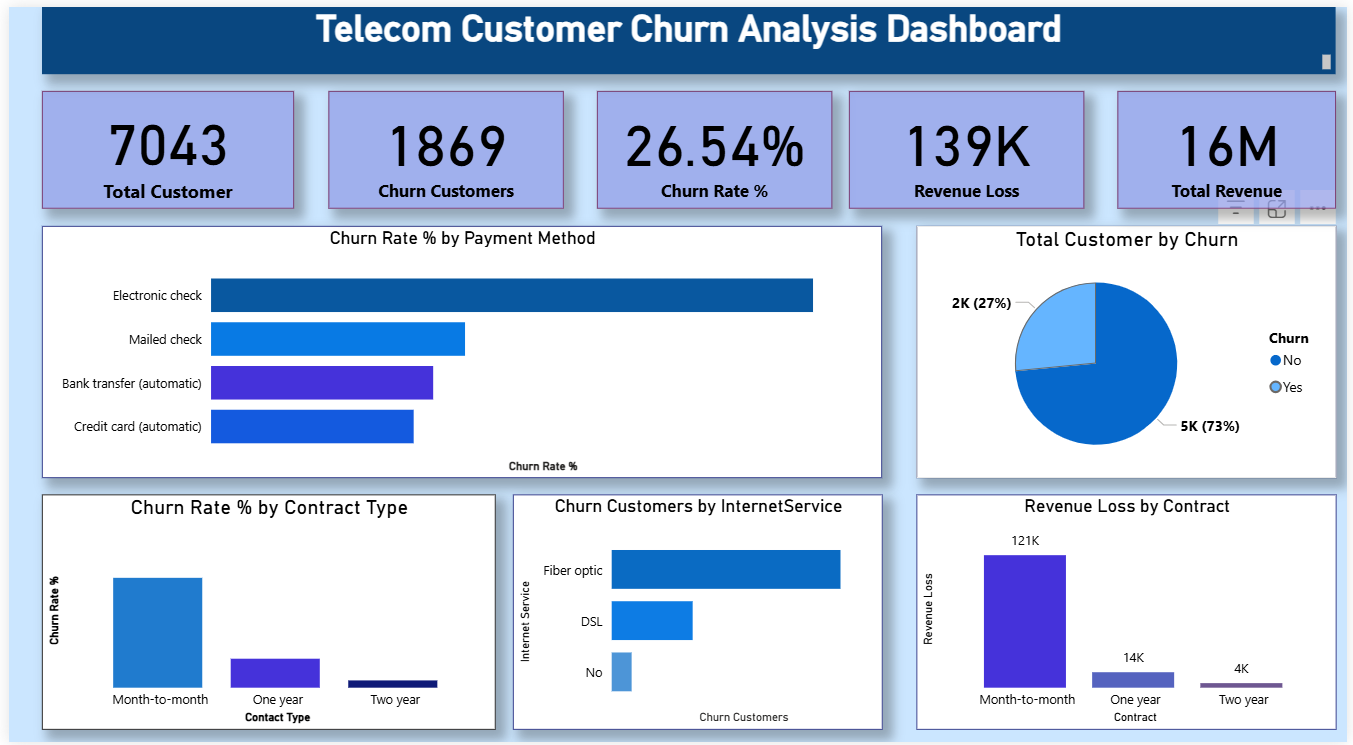

This screenshot's page, from the dashboard's own definition file:
{"tool":"powerbi","page":{"name":"Business Summary","canvas":[1274,700],"ordinal":0},"visuals":[{"type":"card","fields":{"Values":["Churn_data3.Total Customer"]},"box":[32,80,240,112],"z":0},{"type":"card","fields":{"Values":["Churn_data3.Churn Rate %"]},"box":[560,80,224,112],"z":1000},{"type":"card","fields":{"Values":["Churn_data3.Revenue Loss"]},"box":[800,80,224,112],"z":2000},{"type":"clusteredBarChart","title":"Churn Rate % by Payment  Method","fields":{"Category":["Churn_data3.PaymentMethod"],"Y":["Churn_data3.Churn Rate %"]},"box":[32,208,800,240],"z":3000},{"type":"columnChart","title":"Churn Rate % by  Contract Type","fields":{"Y":["Churn_data3.Churn Rate %"],"Category":["Churn_data3.Contract"]},"box":[32,464,432,224],"z":4000},{"type":"card","fields":{"Values":["Churn_data3.Churn Customer"]},"box":[304,80,224,112],"z":5000},{"type":"pieChart","fields":{"Y":["Churn_data3.Total Customer"],"Category":["Churn_data3.Churn"]},"box":[864,208,400,240],"z":6000},{"type":"barChart","fields":{"Category":["internet_data1.InternetService"],"Y":["Churn_data3.Churn Customers"]},"box":[480,464,352,224],"z":7000},{"type":"columnChart","fields":{"Category":["Churn_data3.Contract"],"Y":["Churn_data3.Revenue Loss"]},"box":[864,464,400,224],"z":8000},{"type":"card","fields":{"Values":["Churn_data3.Total Revenue"]},"box":[1056,80,208,112],"z":9000},{"type":"textbox","title":"Telecom Customer Churn Analysis Dashboard","box":[32,0,1232,64],"z":10000}]}

Visuals, with their boxes in screenshot pixels (x1, y1, x2, y2), scaled from the page's 1274x700 canvas onto the 1353x745 screenshot:
card - Churn_data3.Total Customer: detection(34, 85, 289, 204)
card - Churn_data3.Churn Rate %: detection(595, 85, 833, 204)
card - Churn_data3.Revenue Loss: detection(850, 85, 1087, 204)
"Churn Rate % by Payment  Method" clusteredBarChart: detection(34, 221, 884, 477)
"Churn Rate % by  Contract Type" columnChart: detection(34, 494, 493, 732)
card - Churn_data3.Churn Customer: detection(323, 85, 561, 204)
pieChart - Churn_data3.Total Customer x Churn_data3.Churn: detection(918, 221, 1342, 477)
barChart - internet_data1.InternetService x Churn_data3.Churn Customers: detection(510, 494, 884, 732)
columnChart - Churn_data3.Contract x Churn_data3.Revenue Loss: detection(918, 494, 1342, 732)
card - Churn_data3.Total Revenue: detection(1121, 85, 1342, 204)
"Telecom Customer Churn Analysis Dashboard" textbox: detection(34, 0, 1342, 68)
